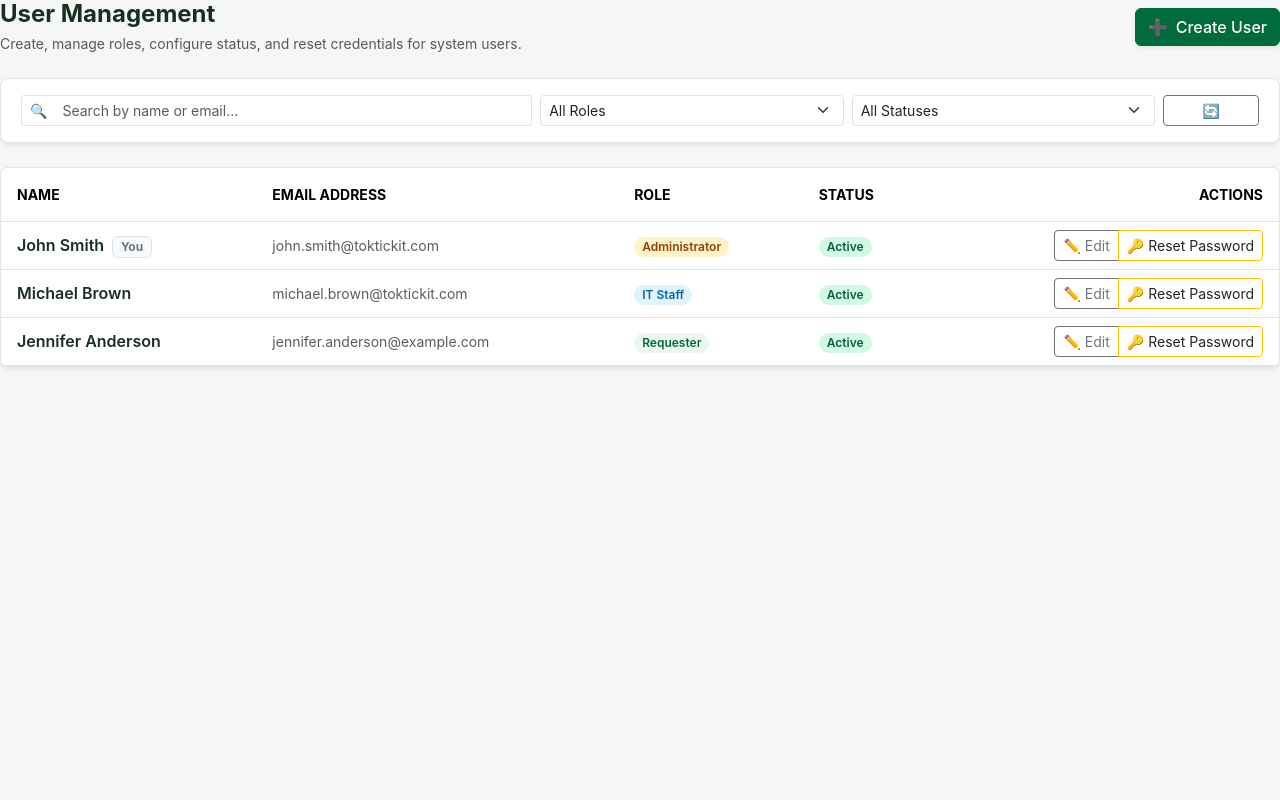
it: UserManagement Component (UI-05) › enforces BR-10 self-deactivation protection when editing logged-in admin
// Click edit for self (John Smith, id 10)
Click the button with test id "edit-btn-10".
click(1087, 245)  # box [1054,230,1119,261]
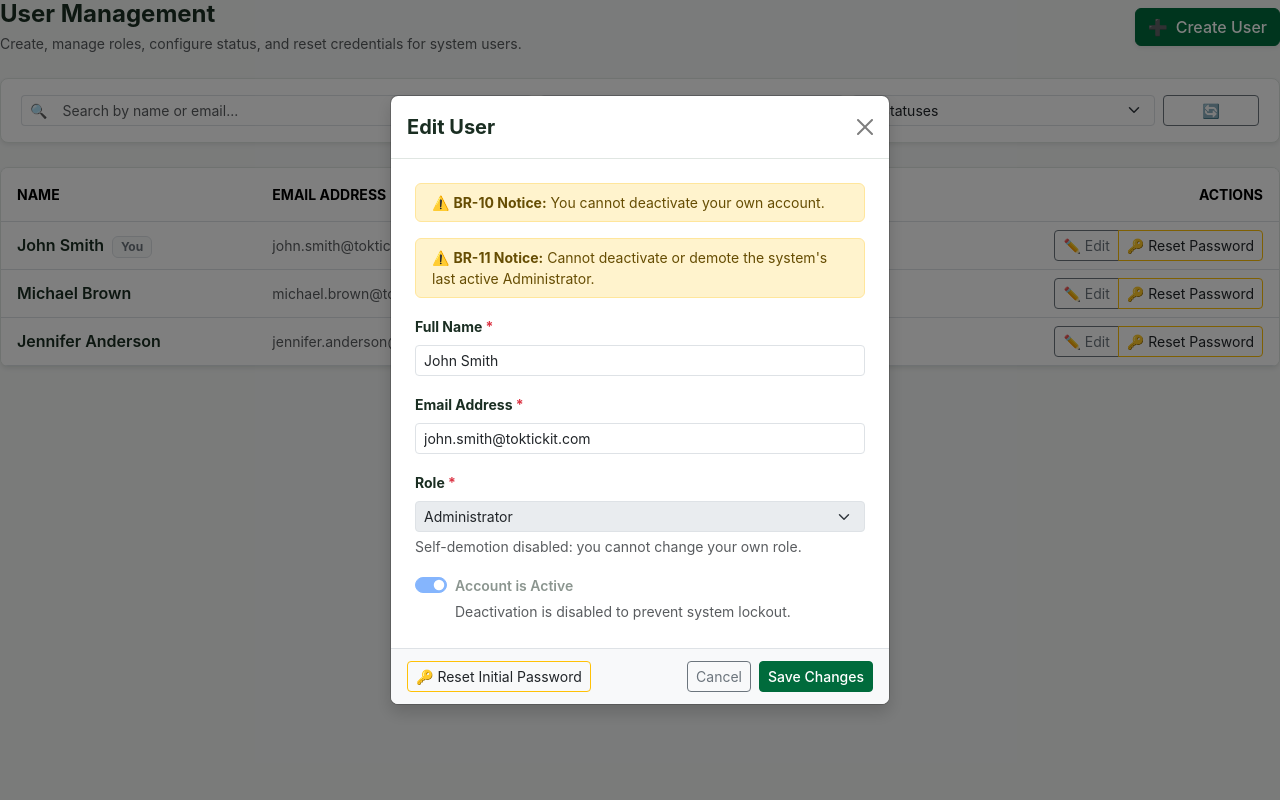
Result: the text "⚠️ BR-10 Notice: You cannot deactivate your own account." is shown at [415,183,865,222]
Result: the checkbox with test id "edit-active-switch" is disabled at [415,577,447,593]
Result: the dropdown with test id "edit-role-select" is disabled at [415,501,865,532]
